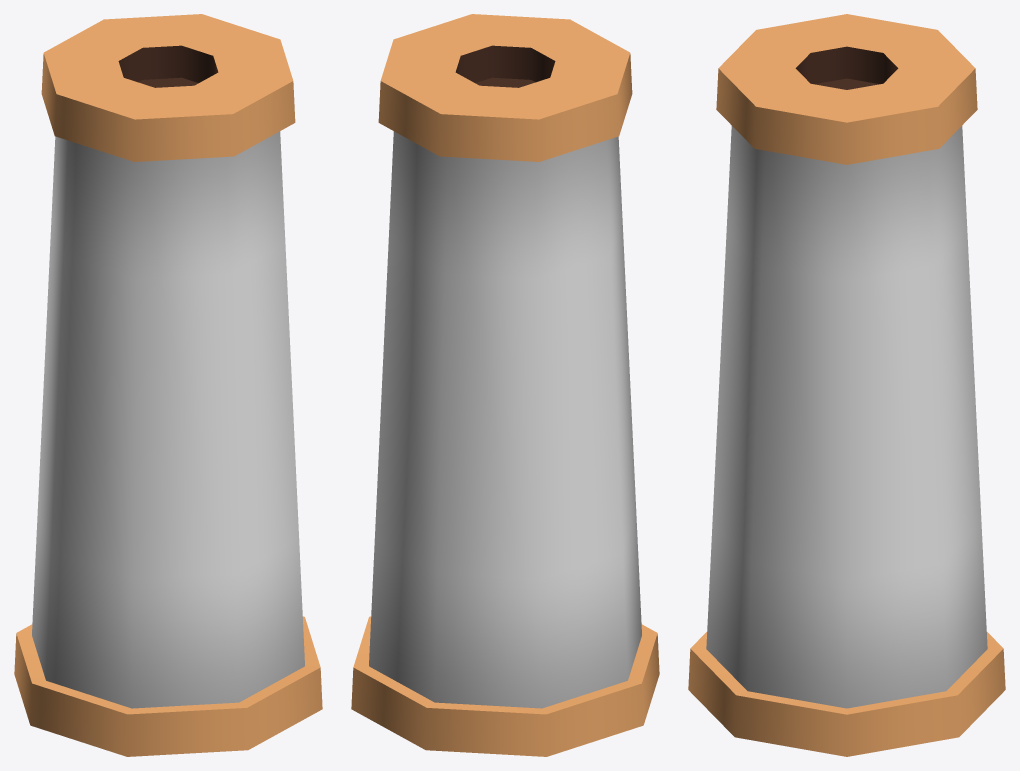
Rendered from spool-2.fbx.
The picture shows the model from 3 angles, left to right: view 1: azimuth 30°, elevation 25°; view 2: azimuth 150°, elevation 25°; view 3: azimuth 270°, elevation 25°; orthographic projection.
Parts seen in each view (by area): view 1: spool-2; view 2: spool-2; view 3: spool-2.
Part boxes in pixels (box(x1,y1,x2,y2)): spool-2: box(14, 14, 322, 756); spool-2: box(351, 14, 659, 756); spool-2: box(688, 14, 1005, 756).
Size of the model in its own units: 5.34 by 11.53 by 5.34.
2 materials, 2 textured.
